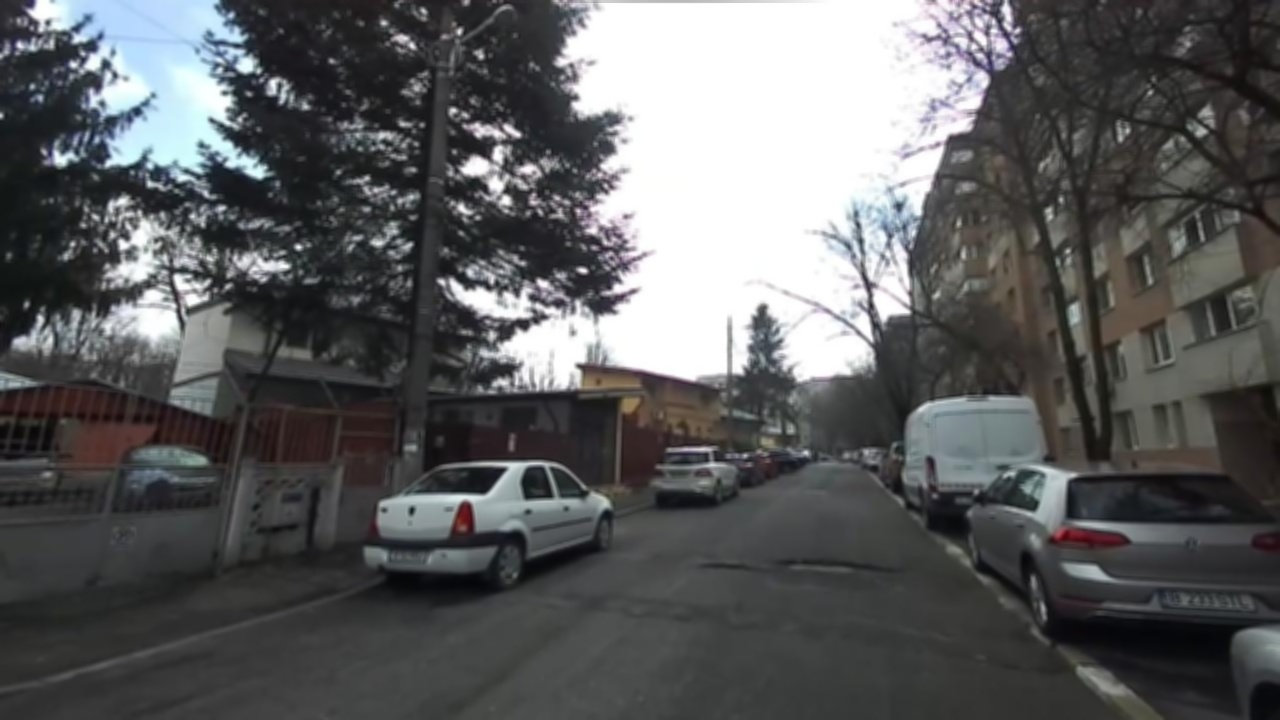pothole: (774, 555, 903, 577), (695, 559, 760, 572)
